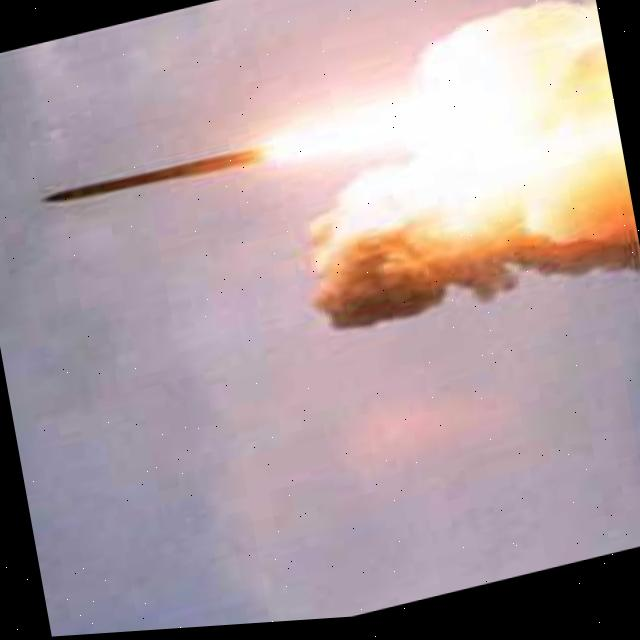missile: (38, 126, 282, 217)
